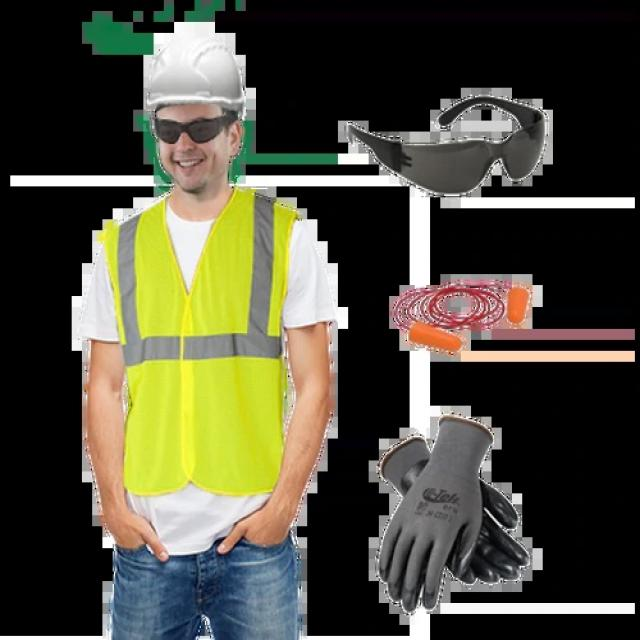Reflective-Jacket: (98, 192, 300, 492)
Safety-Helmet: (142, 37, 250, 116)
